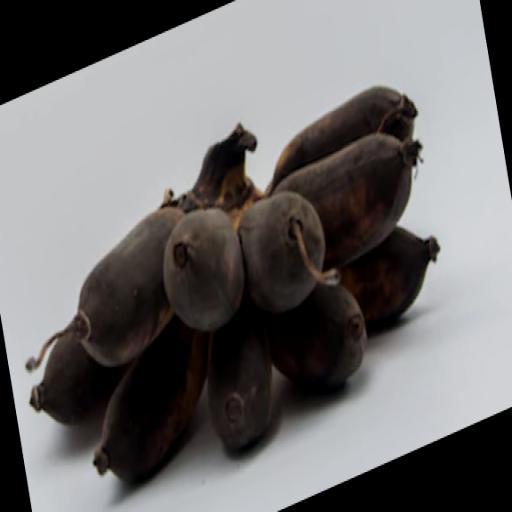banana-overripe: (5, 64, 484, 505)
